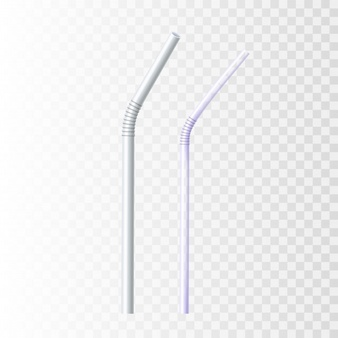Drinking Straw: (181, 47, 255, 317), (119, 30, 183, 316)
